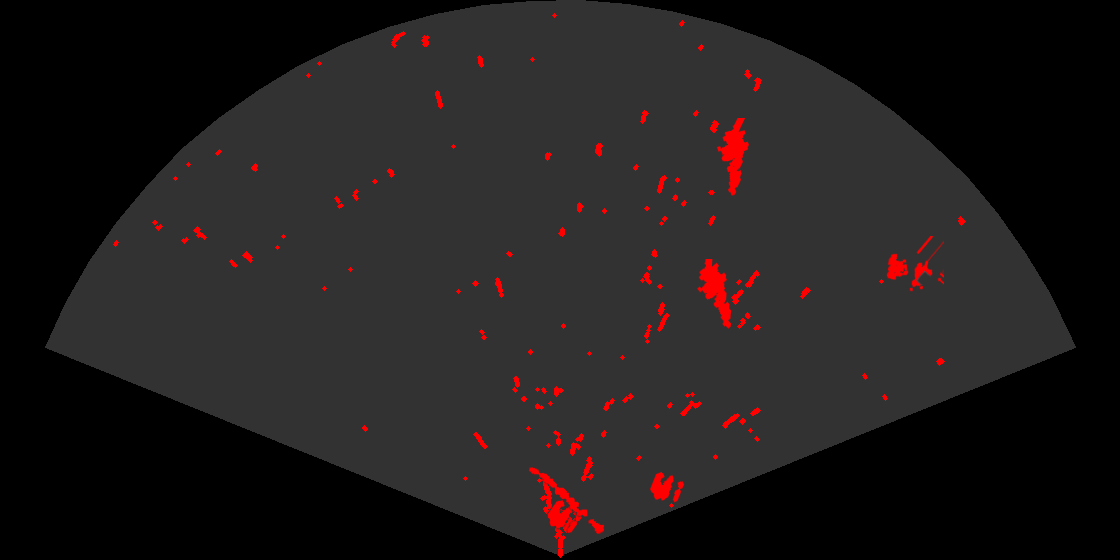ball: (546, 498, 583, 535), (648, 470, 686, 504)
cage: (885, 236, 944, 293)
chain: (527, 466, 606, 536)
frogman: (715, 118, 751, 197), (696, 259, 733, 330)
